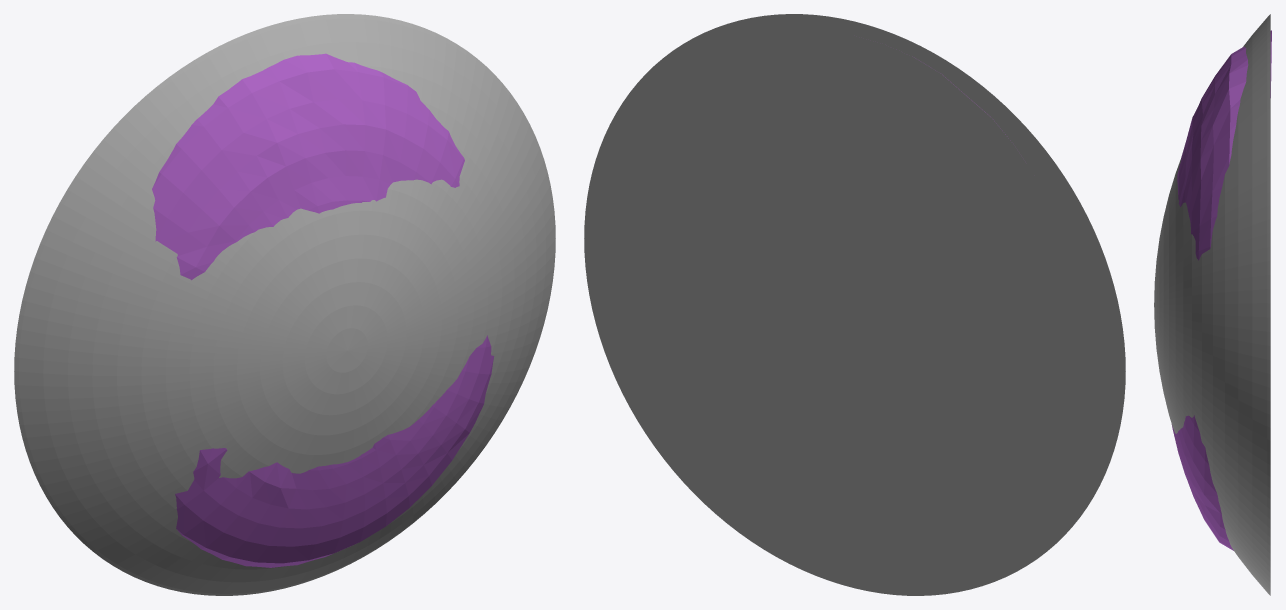
The model's file is G08_A0_ALIGNED_GT.glb.
The picture shows the model from 3 angles, left to right: view 1: azimuth 30°, elevation 25°; view 2: azimuth 150°, elevation 25°; view 3: azimuth 270°, elevation 25°; orthographic projection. The views are drawn at different scales.
Parts seen in each view (by area): view 1: Independent_GT, A0; view 2: Independent_GT; view 3: Independent_GT, A0.
Boxes of the visible parts, x1,y1,x2,y2 form: Independent_GT: (14,14,555,595); A0: (152,53,494,567); Independent_GT: (584,14,1125,595); Independent_GT: (1154,14,1270,595); A0: (1171,30,1271,550).
Size of the model in its own units: 0.022 by 0.022 by 0.00445.
